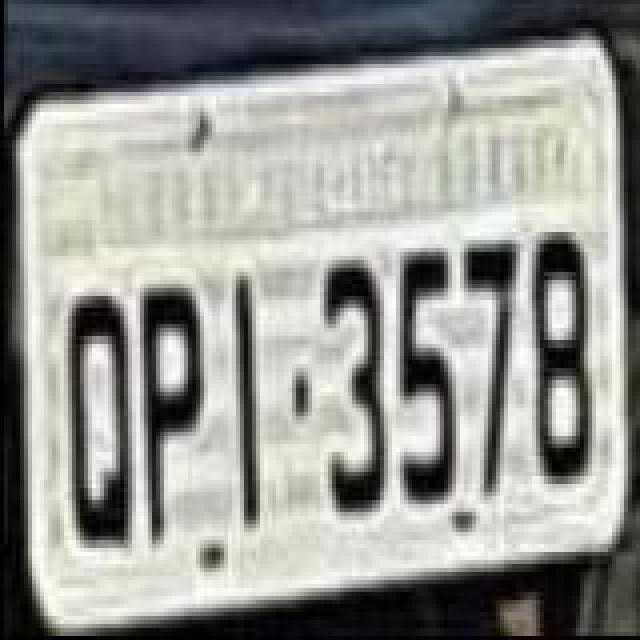1: (230, 272, 266, 536)
3: (314, 258, 390, 522)
5: (390, 252, 458, 508)
7: (458, 236, 522, 500)
8: (526, 230, 598, 490)
P: (136, 286, 208, 550)
Q: (58, 292, 134, 548)
